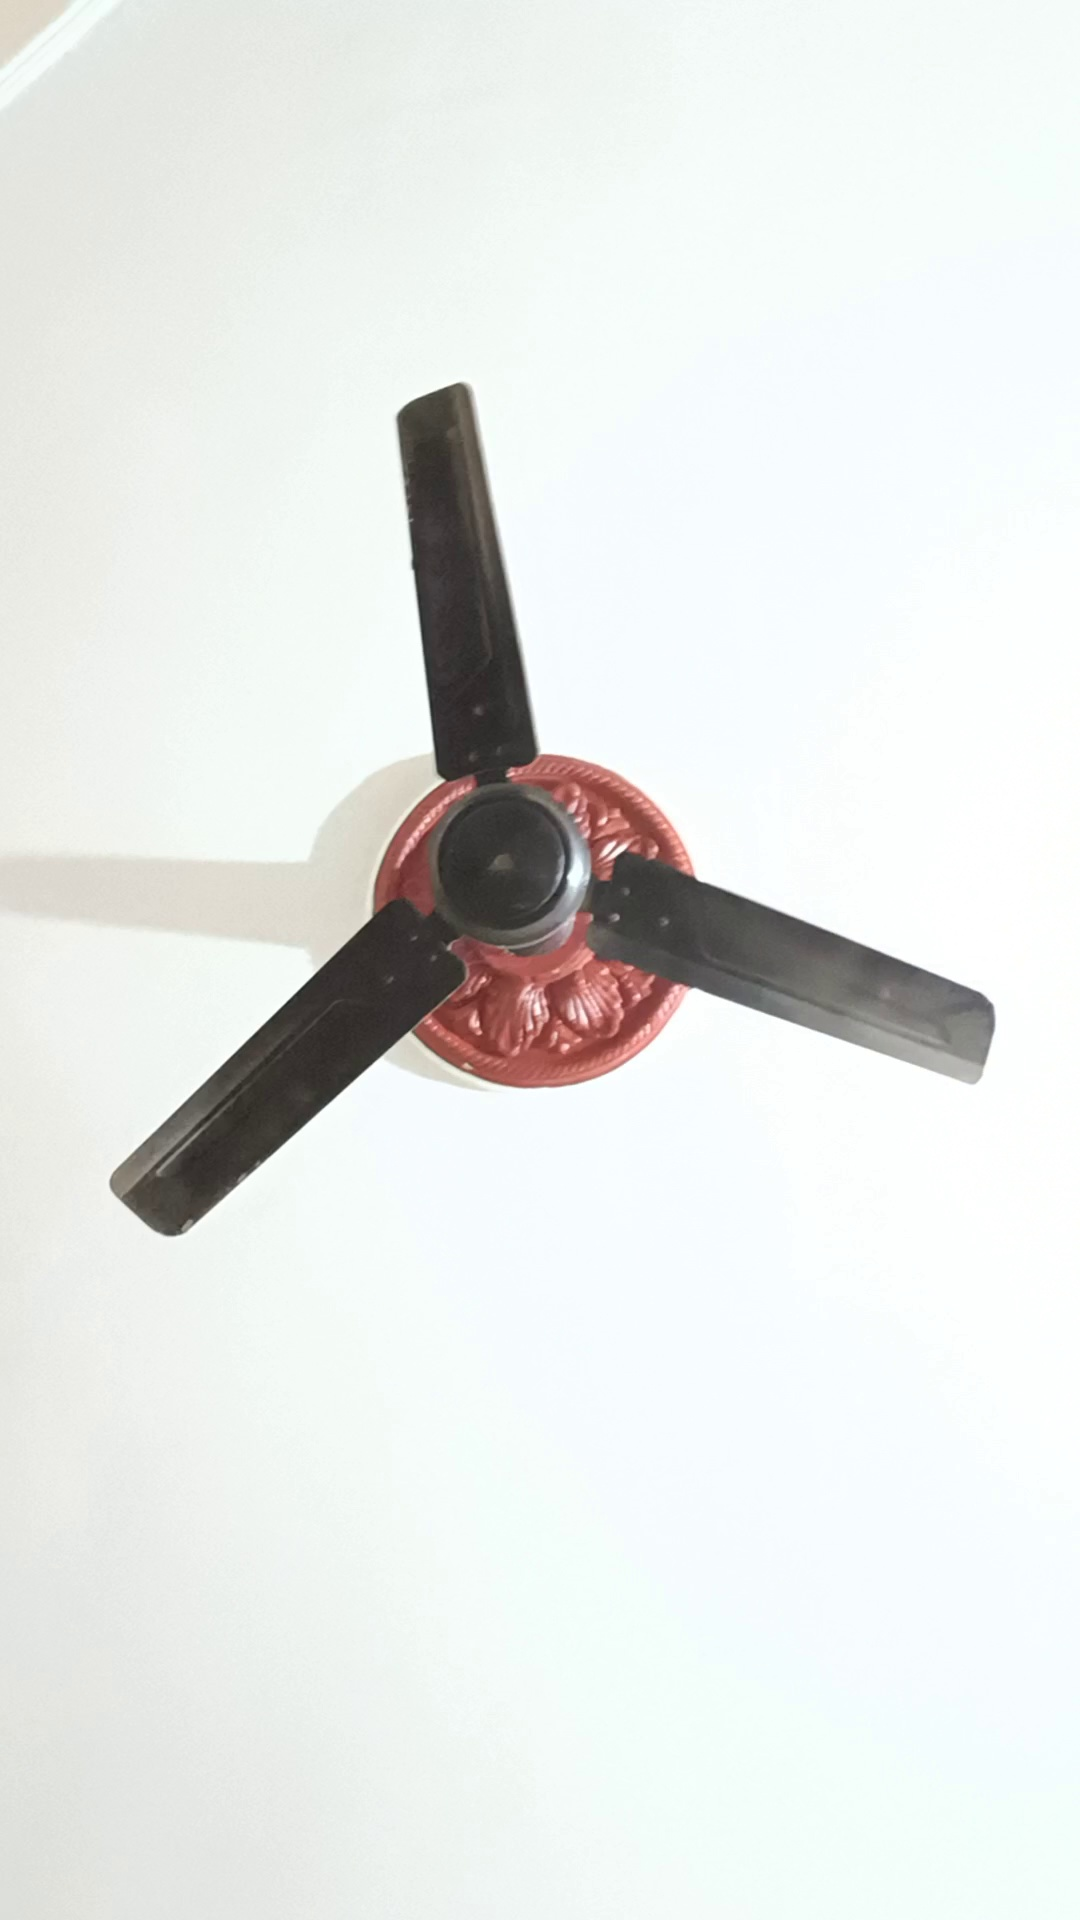fan: (75, 363, 1014, 1253)
